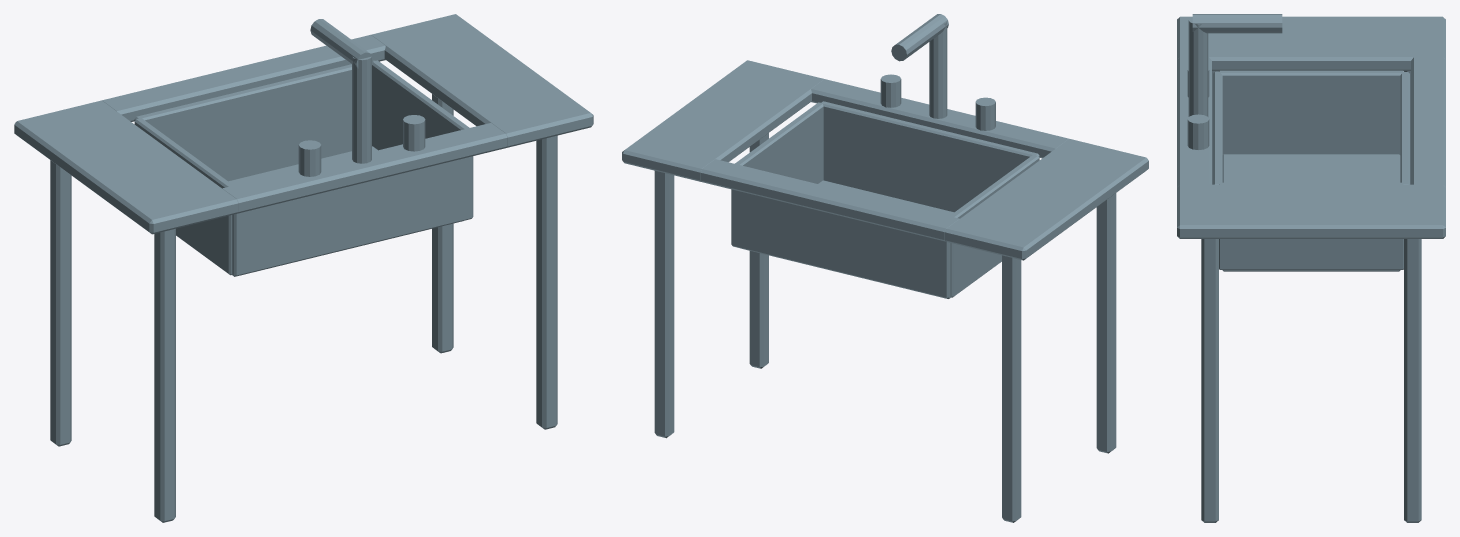
Rendered from kitchen_sink_station.glb.
The picture shows the model from 3 angles, left to right: view 1: azimuth 30°, elevation 25°; view 2: azimuth 150°, elevation 25°; view 3: azimuth 270°, elevation 25°; orthographic projection. The views are drawn at different scales.
Visible parts, largest first — view 1: basin_wall (×2), worktop_side (×2), sink_leg (×4), worktop_rim (×2), basin_side (×2), faucet_riser, tap (×2), faucet_spout, basin_floor; view 2: basin_wall (×2), worktop_side (×2), sink_leg (×4), worktop_rim (×2), basin_side (×2), faucet_riser, tap (×2), faucet_spout, basin_floor; view 3: worktop_side (×2), basin_side (×2), sink_leg (×2), worktop_rim (×2), basin_floor, basin_wall (×2), faucet_riser, faucet_spout, tap.
Boxes of the visible parts, bbox=[...] form: basin_wall (×2): bbox=[134, 60, 473, 276]; worktop_side (×2): bbox=[14, 14, 593, 234]; sink_leg (×4): bbox=[50, 94, 557, 522]; worktop_rim (×2): bbox=[102, 34, 507, 213]; basin_side (×2): bbox=[134, 60, 469, 275]; faucet_riser: bbox=[352, 56, 371, 163]; tap (×2): bbox=[298, 115, 425, 176]; faucet_spout: bbox=[310, 19, 373, 68]; basin_floor: bbox=[228, 146, 461, 276]; basin_wall (×2): bbox=[731, 101, 1039, 298]; worktop_side (×2): bbox=[622, 60, 1148, 260]; sink_leg (×4): bbox=[654, 133, 1116, 522]; worktop_rim (×2): bbox=[700, 79, 1068, 241]; basin_side (×2): bbox=[735, 102, 1039, 297]; faucet_riser: bbox=[929, 22, 947, 118]; tap (×2): bbox=[880, 74, 995, 130]; faucet_spout: bbox=[891, 14, 948, 61]; basin_floor: bbox=[746, 180, 953, 298]; worktop_side (×2): bbox=[1177, 16, 1445, 238]; basin_side (×2): bbox=[1219, 70, 1403, 269]; sink_leg (×2): bbox=[1201, 239, 1421, 522]; worktop_rim (×2): bbox=[1177, 57, 1445, 187]; basin_floor: bbox=[1222, 154, 1400, 271]; basin_wall (×2): bbox=[1213, 72, 1409, 184]; faucet_riser: bbox=[1188, 17, 1208, 116]; faucet_spout: bbox=[1192, 14, 1282, 33]; tap: bbox=[1187, 114, 1209, 149].
Size of the model in its own units: 1.28 by 1.18 by 0.69.
